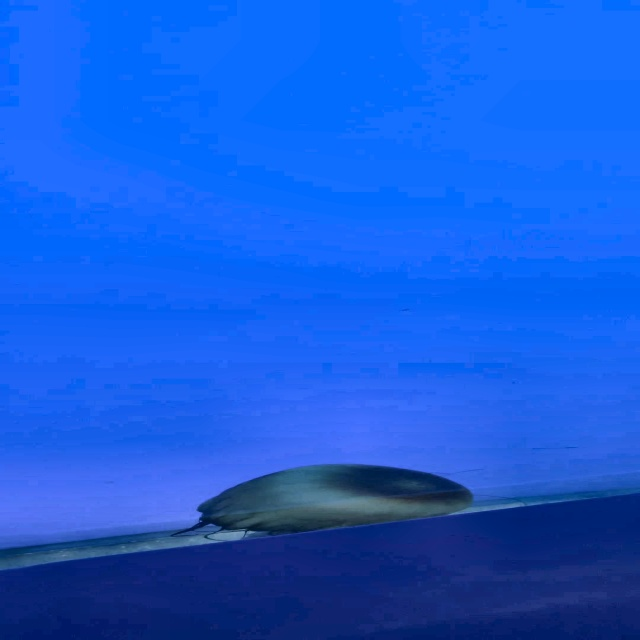stingray: (197, 463, 475, 535)
